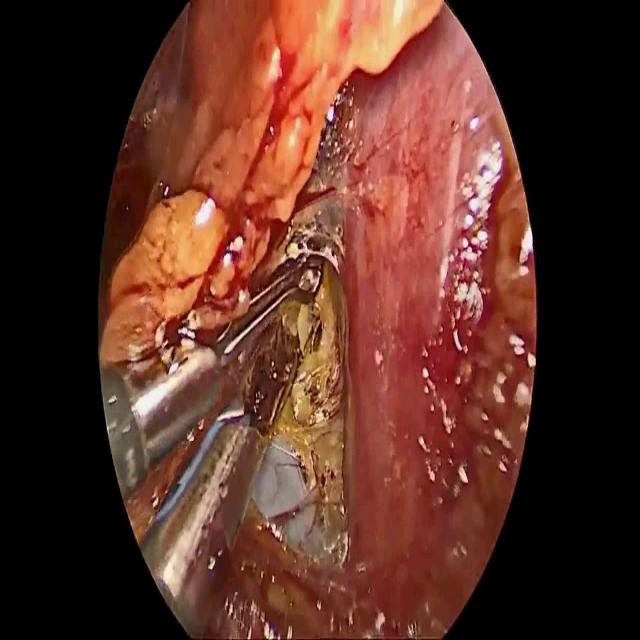surgical-area: (98, 0, 536, 639)
surgical-tool: (100, 253, 324, 639)
